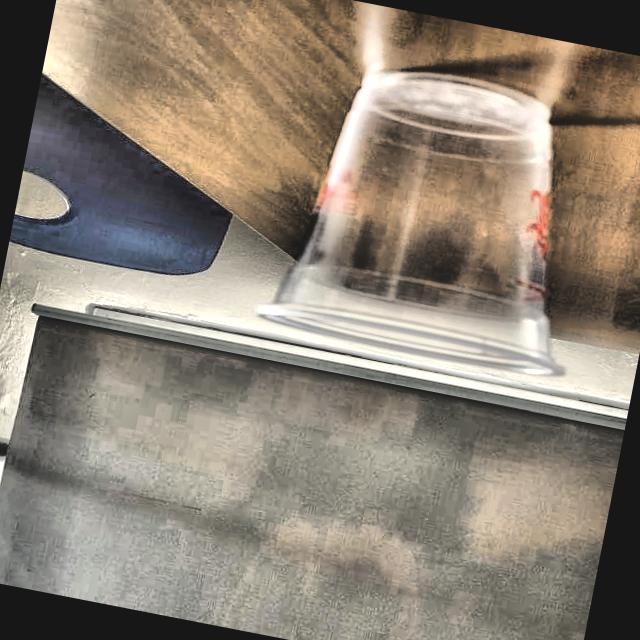plastic cup: (254, 50, 620, 388)
